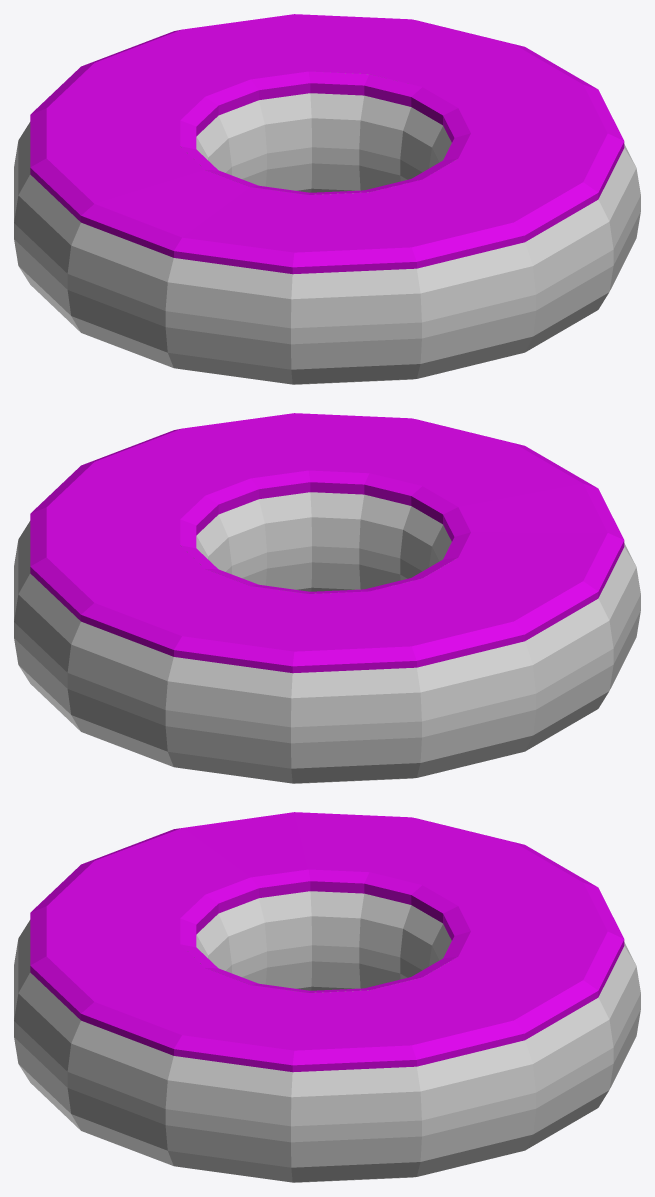
File: Do-nut.fbx
3 renders of one model, top to bottom at view 1: azimuth 30°, elevation 25°; view 2: azimuth 150°, elevation 25°; view 3: azimuth 270°, elevation 25°, orthographic.
Visible parts, largest first — view 1: Circle; view 2: Circle; view 3: Circle.
Part boxes in pixels (left/top/right/bottom): Circle: left=14, top=14, right=640, bottom=384; Circle: left=14, top=413, right=640, bottom=783; Circle: left=14, top=812, right=640, bottom=1182.
Size of the model in its own units: 388 by 89.83 by 386.
